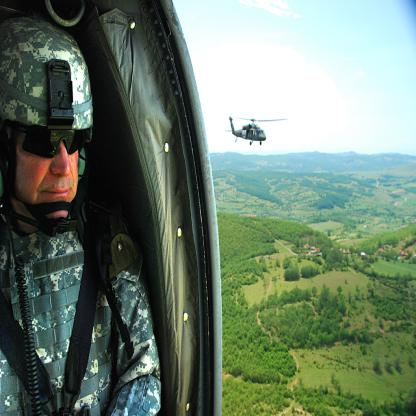Helmet: (13, 19, 88, 238)
